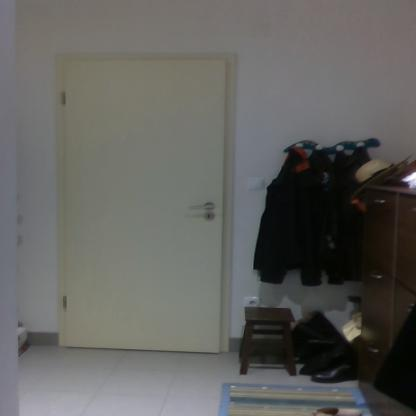door: (66, 62, 220, 353)
hinged: (62, 294, 68, 310), (60, 90, 66, 105)
lever: (184, 204, 217, 210)
